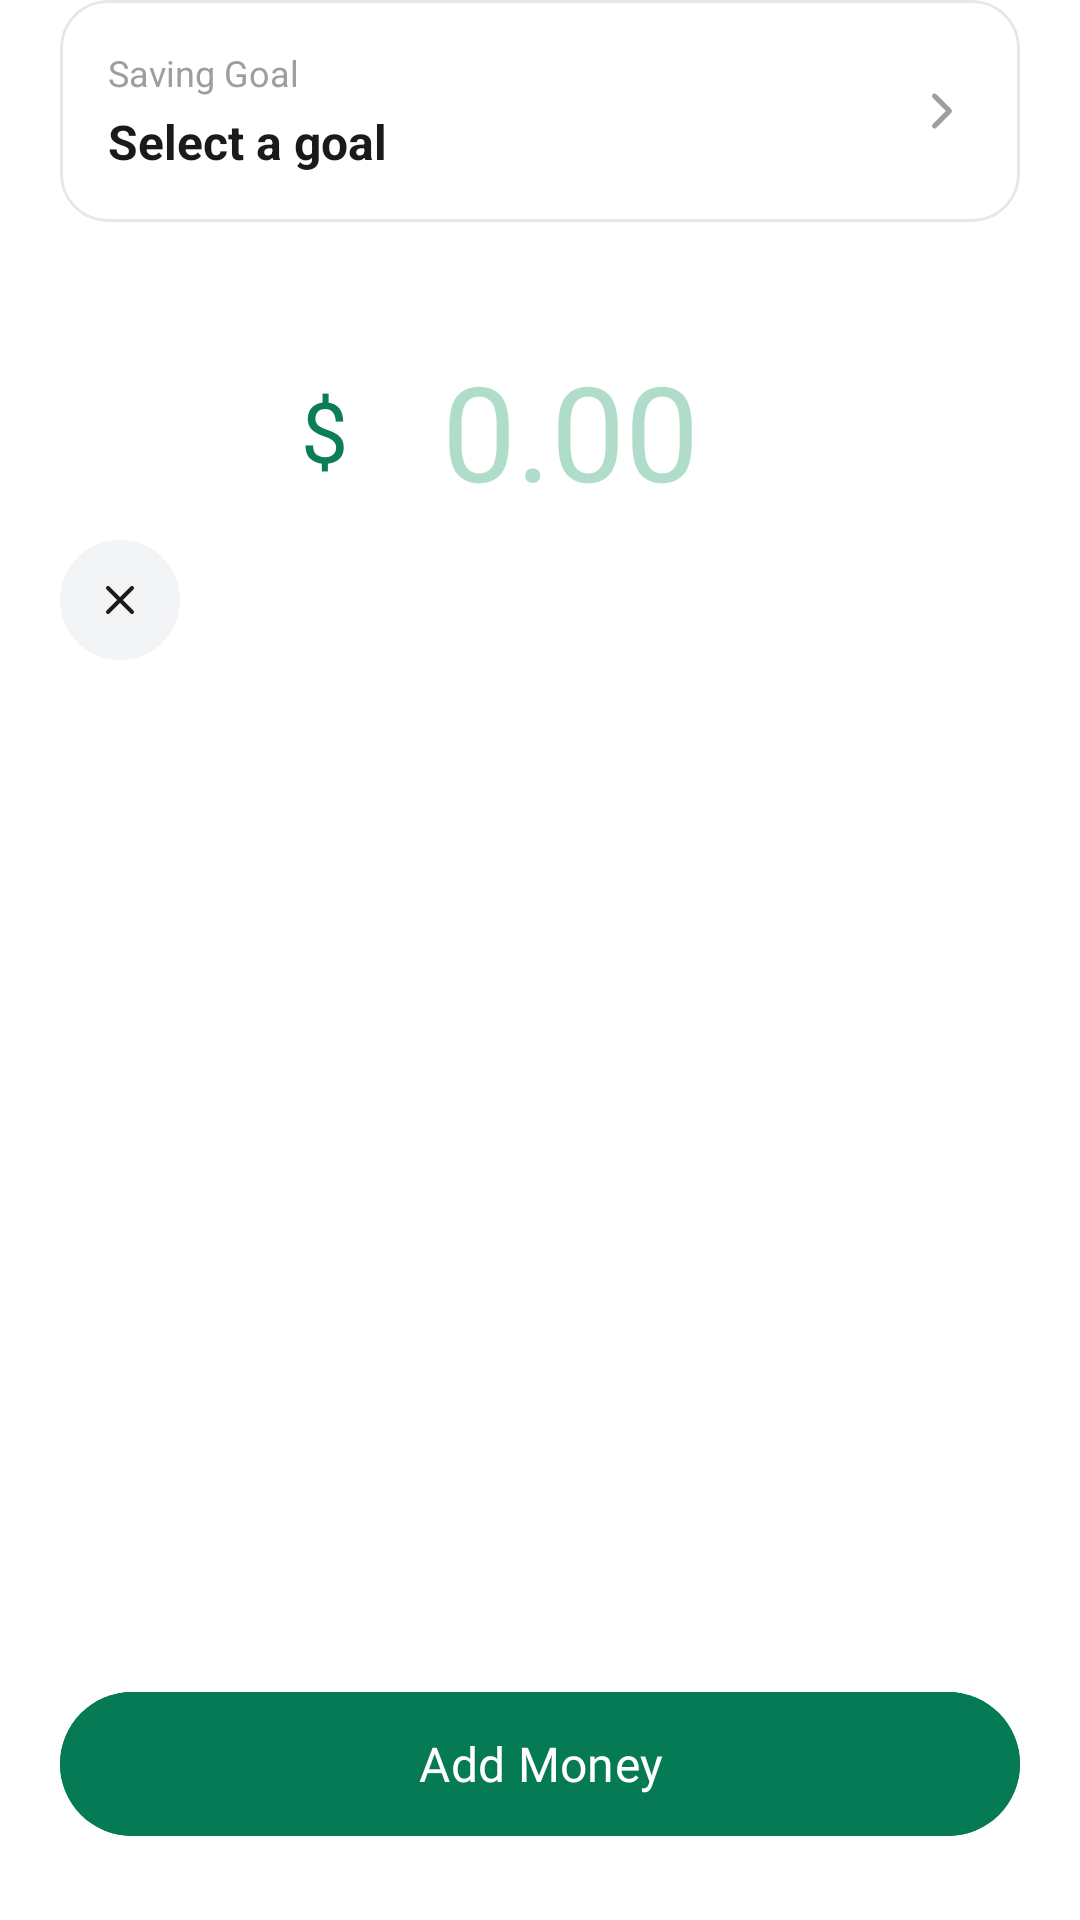

Named icons in this screenshot (1080x1920) and their bounding boxes, (x1, y1, x2, y2):
chevron right: (932, 93, 952, 129)
closed: (106, 586, 134, 614)
